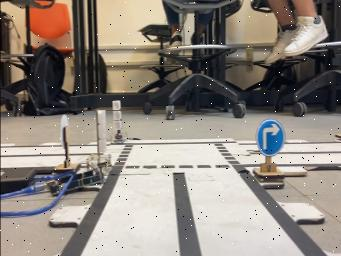right: (252, 118, 284, 188)
street: (59, 139, 304, 256), (271, 142, 341, 165), (0, 144, 65, 168), (234, 141, 265, 165), (69, 145, 97, 163)
traffic_light: (91, 110, 111, 176), (110, 100, 127, 143)
